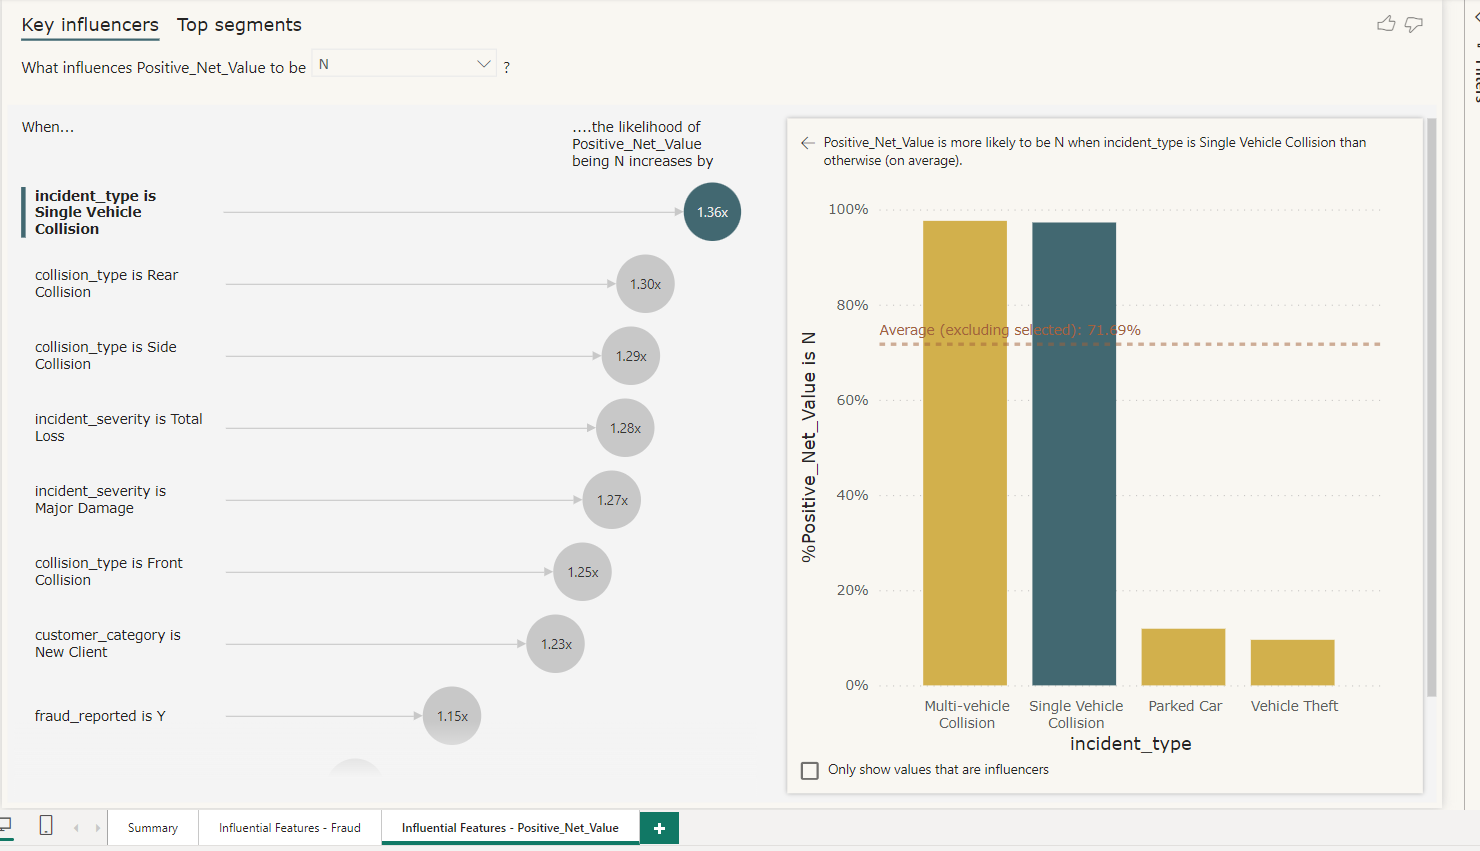

This screenshot's page, from the dashboard's own definition file:
{"tool":"powerbi","page":{"name":"Influential Features - Positive_Net_Value","canvas":[1280,720],"ordinal":2},"visuals":[{"type":"keyDriversVisual","fields":{"Target":["Advanced Features Claims Data (2).Positive_Net_Value"],"ExplainBy":["Advanced Features Claims Data (2).incident_type","Advanced Features Claims Data (2).incident_location","Advanced Features Claims Data (2).fraud_reported","Advanced Features Claims Data (2).auto_model","Advanced Features Claims Data (2).collision_type","Advanced Features Claims Data (2).customer_category","Advanced Features Claims Data (2).incident_severity","Advanced Features Claims Data (2).incident_state","Advanced Features Claims Data (2).insured_hobbies","Advanced Features Claims Data (2).insured_occupation","Advanced Features Claims Data (2).insured_relationship"]},"box":[0,0,1279.7,720],"z":0}]}

Visuals, with their boxes on the page's 1280x720 design canvas (x1, y1, x2, y2). These are canvas units, not pixel positions in the 1480x851 screenshot, which may show the page scaled, cropped or inside an application window:
keyDriversVisual - Advanced Features Claims Data (2).Positive_Net_Value x Advanced Features Claims Data (2).incident_type: 0:0:1280:720
